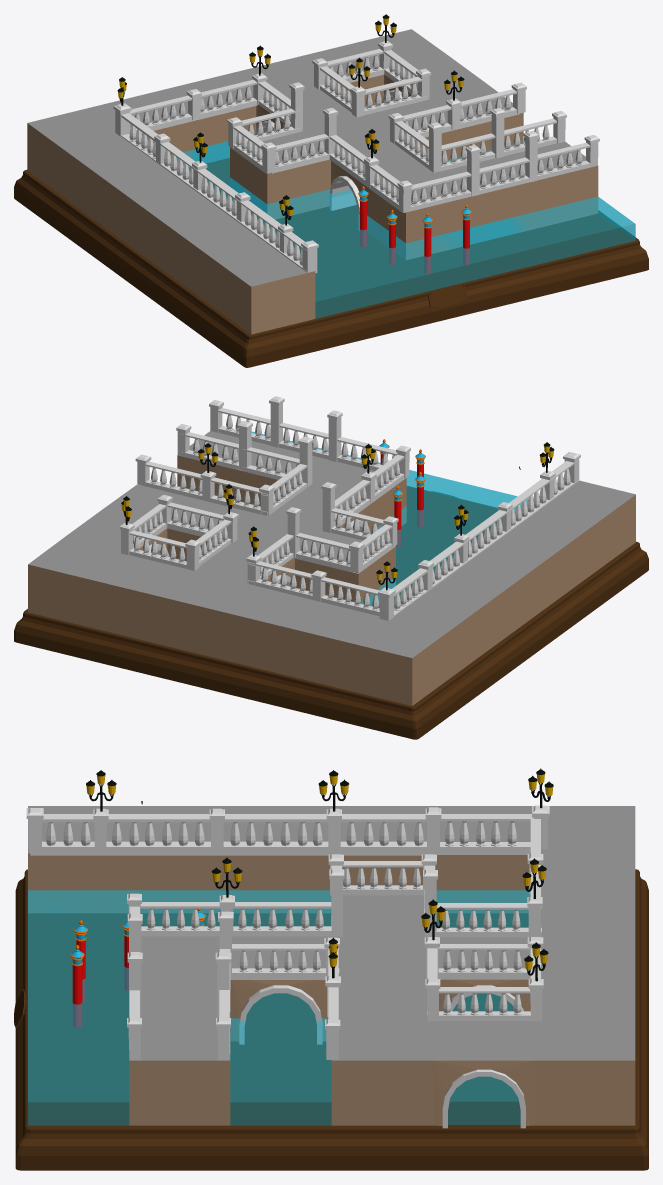
File: lvl1.FBX
3 renders of one model, top to bottom at view 1: azimuth 30°, elevation 25°; view 2: azimuth 150°, elevation 25°; view 3: azimuth 270°, elevation 25°, orthographic. The views are drawn at different scales.
Visible parts, largest first — view 1: Object148; view 2: Object148; view 3: Object148.
Part boxes in pixels (bbox=[...]): Object148: bbox=[14, 14, 648, 367]; Object148: bbox=[14, 396, 648, 739]; Object148: bbox=[14, 768, 648, 1170].
Bounding box in the file's own units: 349 × 110 × 350.
